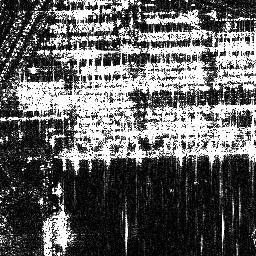ship: (55, 210, 70, 248)
